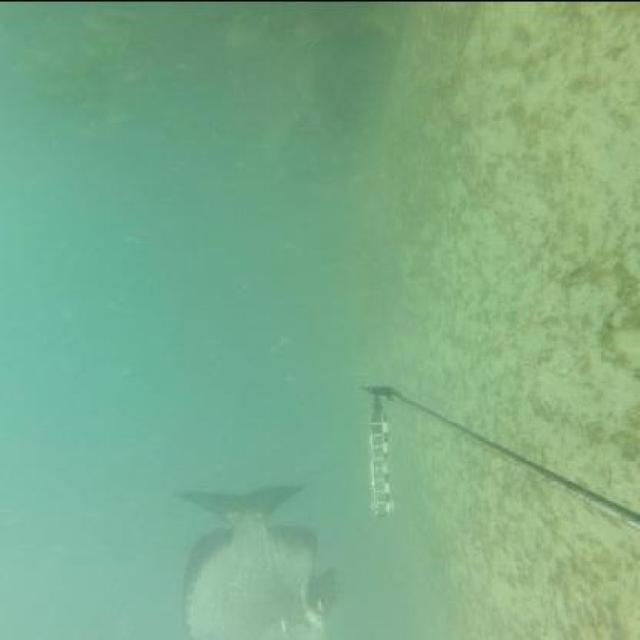acanthopagrus_palmaris: (171, 478, 343, 640)
